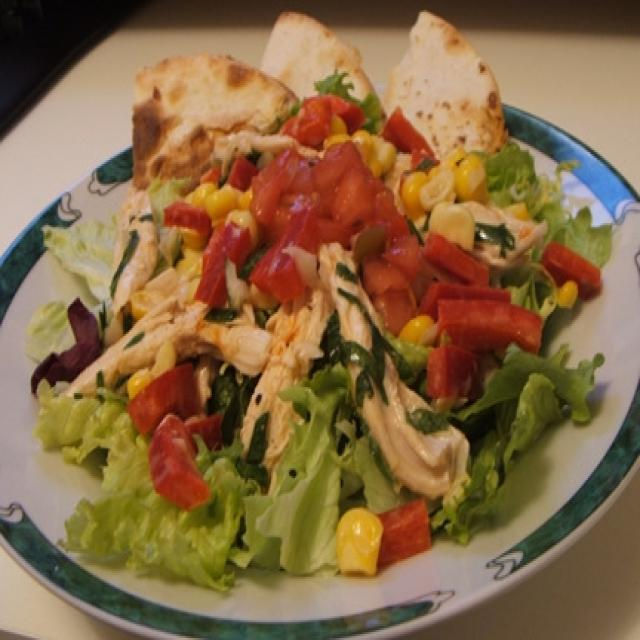鸡肉料理 含炸鸡: (12, 28, 613, 618)
